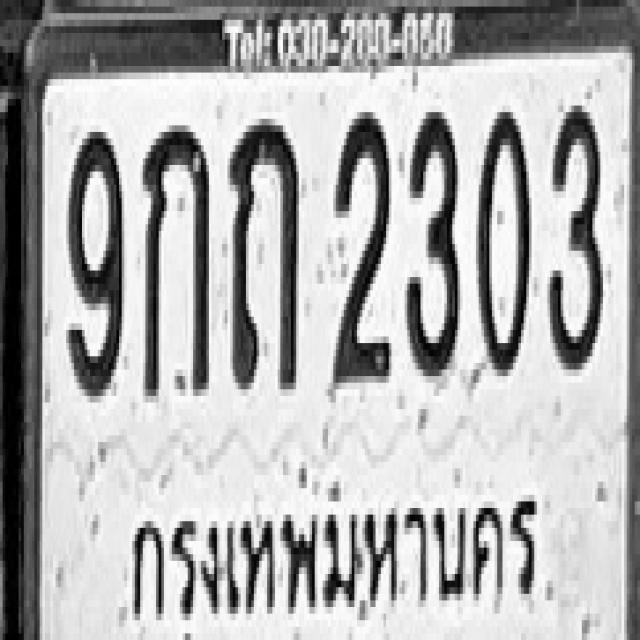0: (476, 102, 529, 373)
10GorGai: (142, 115, 211, 396)
2: (332, 105, 390, 382)
3: (547, 96, 603, 366), (406, 106, 459, 376)
31ThorThung: (227, 112, 299, 389)
9: (66, 125, 122, 396)
Bangkok: (112, 435, 551, 629)
